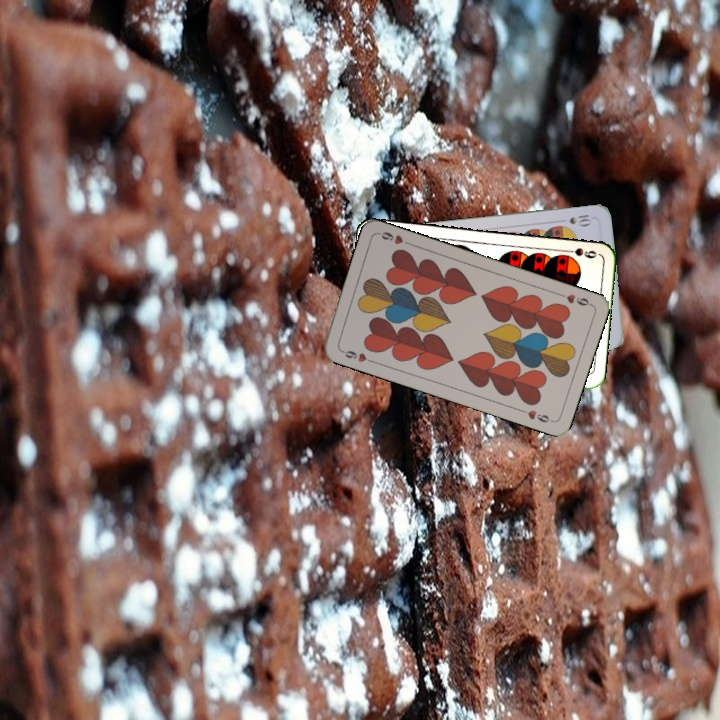H9: (554, 289, 594, 308), (336, 346, 376, 365)
S10: (565, 211, 592, 228)
S9: (560, 244, 599, 261)
